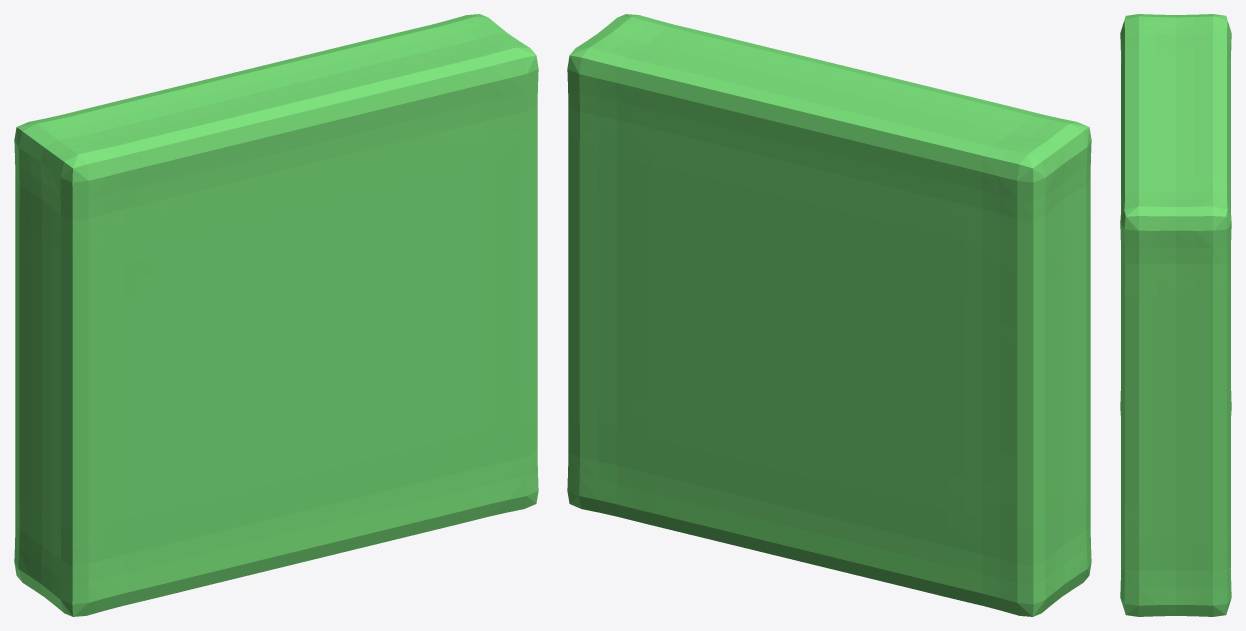
File: PTC_Source.gltf
3 renders of one model, left to right at view 1: azimuth 30°, elevation 25°; view 2: azimuth 150°, elevation 25°; view 3: azimuth 270°, elevation 25°, orthographic. The views are drawn at different scales.
Bounding box in the file's own units: 21.79 × 20.19 × 4.99.
